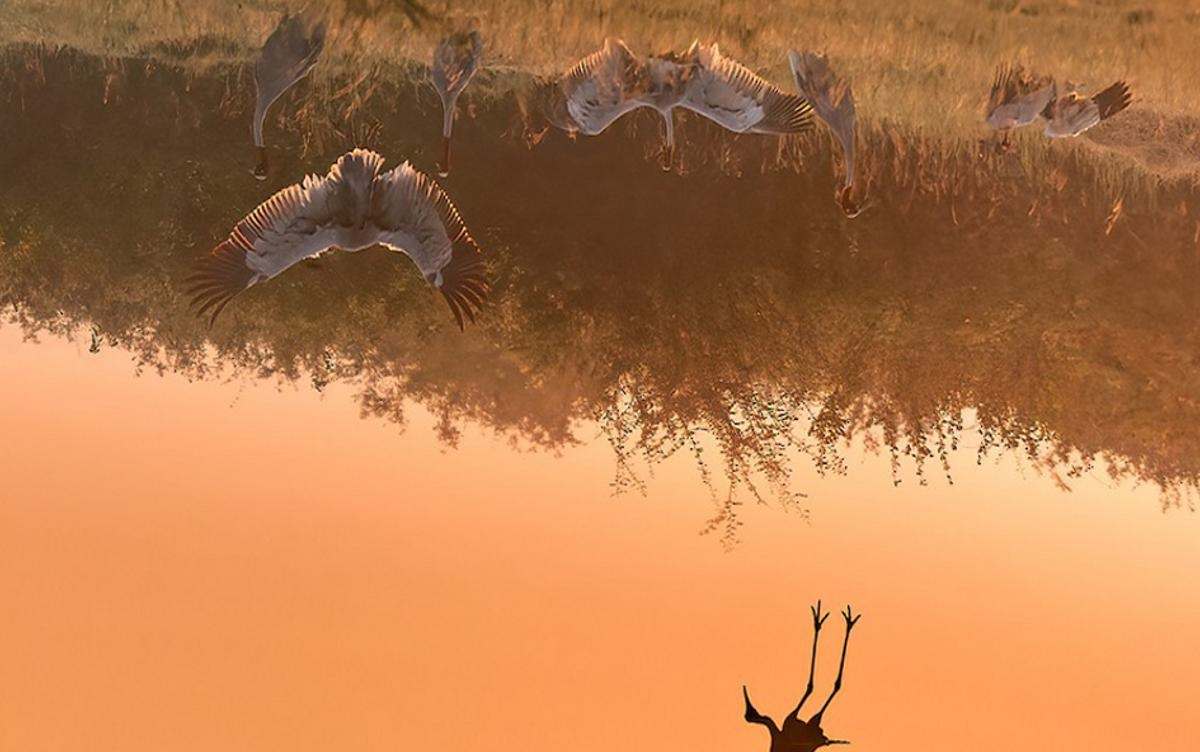crane: (184, 149, 498, 330), (526, 37, 808, 184), (788, 26, 884, 227), (224, 11, 327, 197), (988, 53, 1133, 177), (427, 13, 497, 181)
